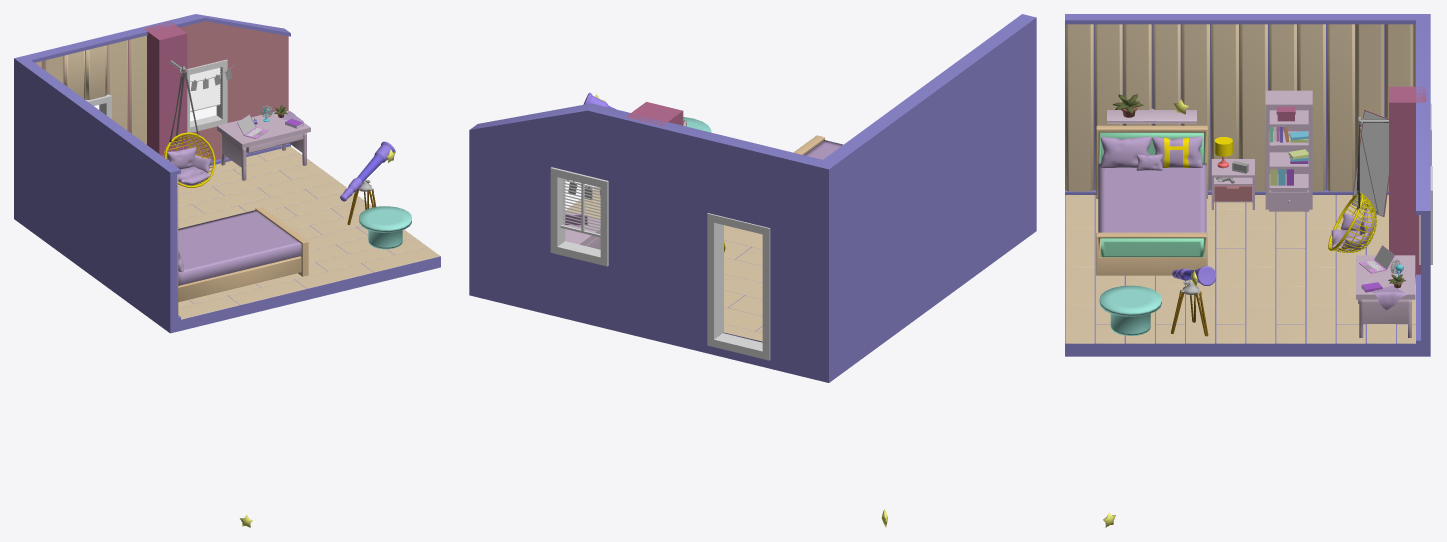
The model's file is phong ngu (1).fbx.
3 renders of one model, left to right at view 1: azimuth 30°, elevation 25°; view 2: azimuth 150°, elevation 25°; view 3: azimuth 270°, elevation 25°, orthographic. The views are drawn at different scales.
Parts seen in each view (by area): view 1: polySurface1672, polySurface1540, polySurface1674, polySurface1517, polySurface1414, polySurface1589, polySurface1504, polySurface1588, polySurface1447, polySurface1721, polySurface1587, polySurface1416 (+3 smaller); view 2: polySurface1672, polySurface1540, polySurface1722, polySurface1721, polySurface1517; view 3: polySurface1540, polySurface1672, polySurface1674, polySurface1517, polySurface1571, polySurface1580, polySurface1413, polySurface1582, polySurface1419, polySurface1581, polySurface1579, polySurface1572 (+21 smaller).
Part boxes in pixels (box(x1,y1,x2,y2)): polySurface1672: box(14, 14, 440, 333); polySurface1540: box(178, 146, 439, 319); polySurface1674: box(178, 210, 301, 285); polySurface1517: box(143, 22, 187, 184); polySurface1414: box(178, 256, 301, 302); polySurface1589: box(129, 35, 146, 144); polySurface1504: box(359, 206, 411, 249); polySurface1588: box(107, 40, 127, 130); polySurface1447: box(217, 109, 310, 148); polySurface1721: box(187, 59, 227, 132); polySurface1587: box(86, 45, 106, 99); polySurface1416: box(221, 133, 306, 180); polySurface1672: box(469, 14, 1036, 382); polySurface1540: box(566, 187, 762, 341); polySurface1722: box(707, 213, 770, 360); polySurface1721: box(550, 167, 608, 266); polySurface1517: box(625, 102, 683, 125); polySurface1540: box(1065, 195, 1415, 343); polySurface1672: box(1065, 14, 1430, 356); polySurface1674: box(1098, 163, 1206, 232); polySurface1517: box(1389, 86, 1426, 277); polySurface1571: box(1065, 24, 1093, 191); polySurface1580: box(1327, 24, 1354, 191); polySurface1413: box(1096, 232, 1207, 275); polySurface1582: box(1240, 24, 1267, 191); polySurface1419: box(1265, 90, 1312, 209); polySurface1581: box(1210, 24, 1238, 190); polySurface1579: box(1298, 24, 1325, 191); polySurface1572: box(1094, 24, 1122, 190).
Size of the model in its own units: 1476 by 1954 by 1422.
